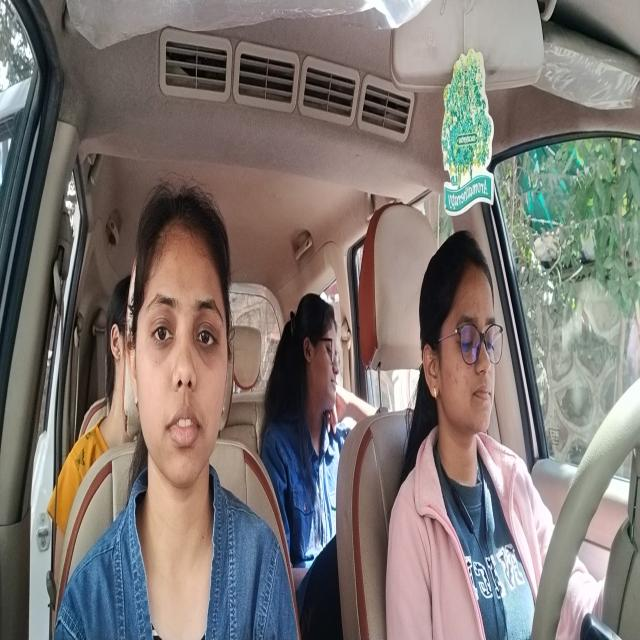drowsy: (422, 234, 498, 446)
person: (133, 188, 232, 502), (293, 285, 342, 435), (104, 276, 133, 430)
